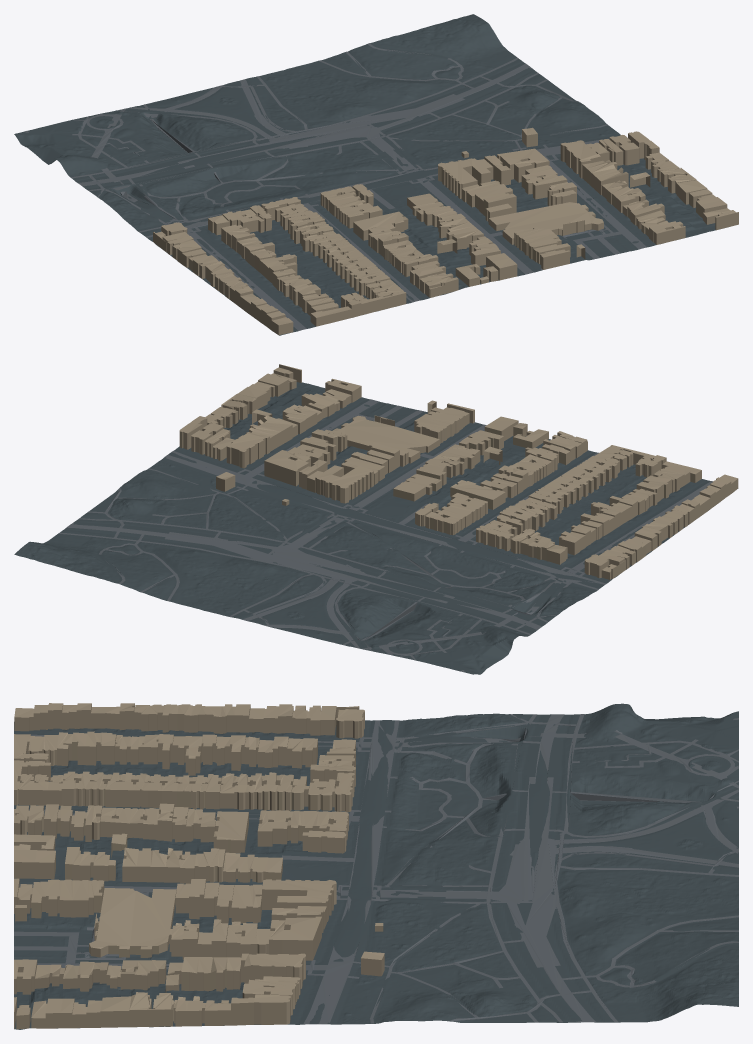
File: epsg26910-1424-10887.lod0.glb
3 renders of one model, top to bottom at view 1: azimuth 30°, elevation 25°; view 2: azimuth 150°, elevation 25°; view 3: azimuth 270°, elevation 25°, orthographic. The views are drawn at different scales.
Parts seen in each view (by area): view 1: epsg26910-1424-10887-lod0; view 2: epsg26910-1424-10887-lod0; view 3: epsg26910-1424-10887-lod0.
Part boxes in pixels (left/top/right/bottom): epsg26910-1424-10887-lod0: left=14, top=14, right=738, bottom=335; epsg26910-1424-10887-lod0: left=14, top=364, right=738, bottom=674; epsg26910-1424-10887-lod0: left=14, top=703, right=738, bottom=1029.
Bounding box in the file's own units: 384 × 17.12 × 384.
